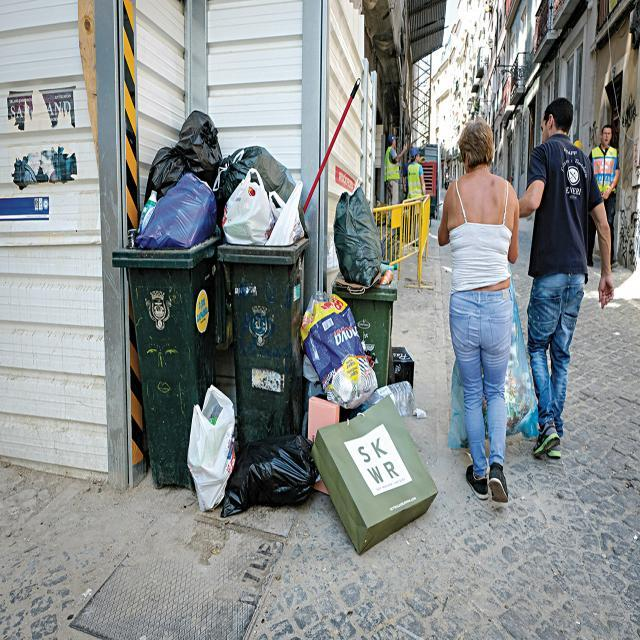garbage: (111, 101, 448, 527)
